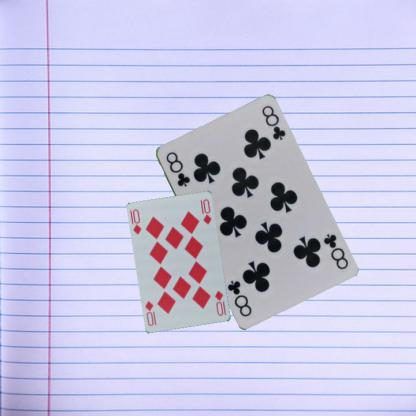10d: (212, 288, 228, 318), (130, 206, 143, 236)
8c: (320, 230, 349, 271), (163, 148, 191, 188)
